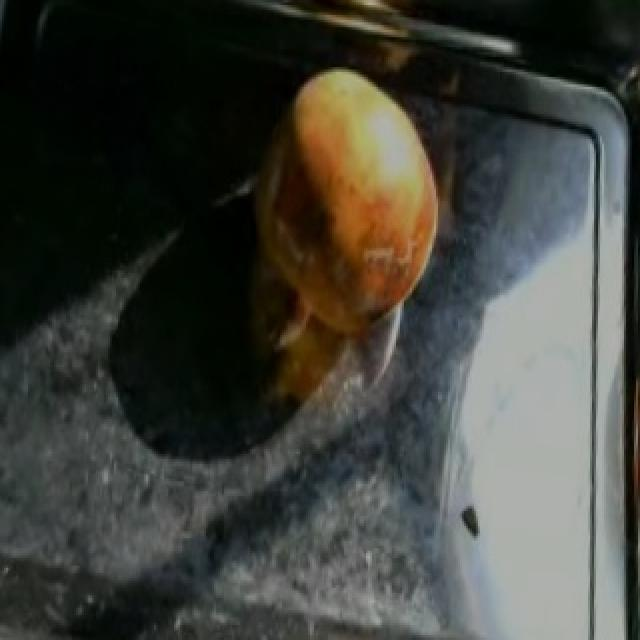fruit: (234, 49, 458, 350)
